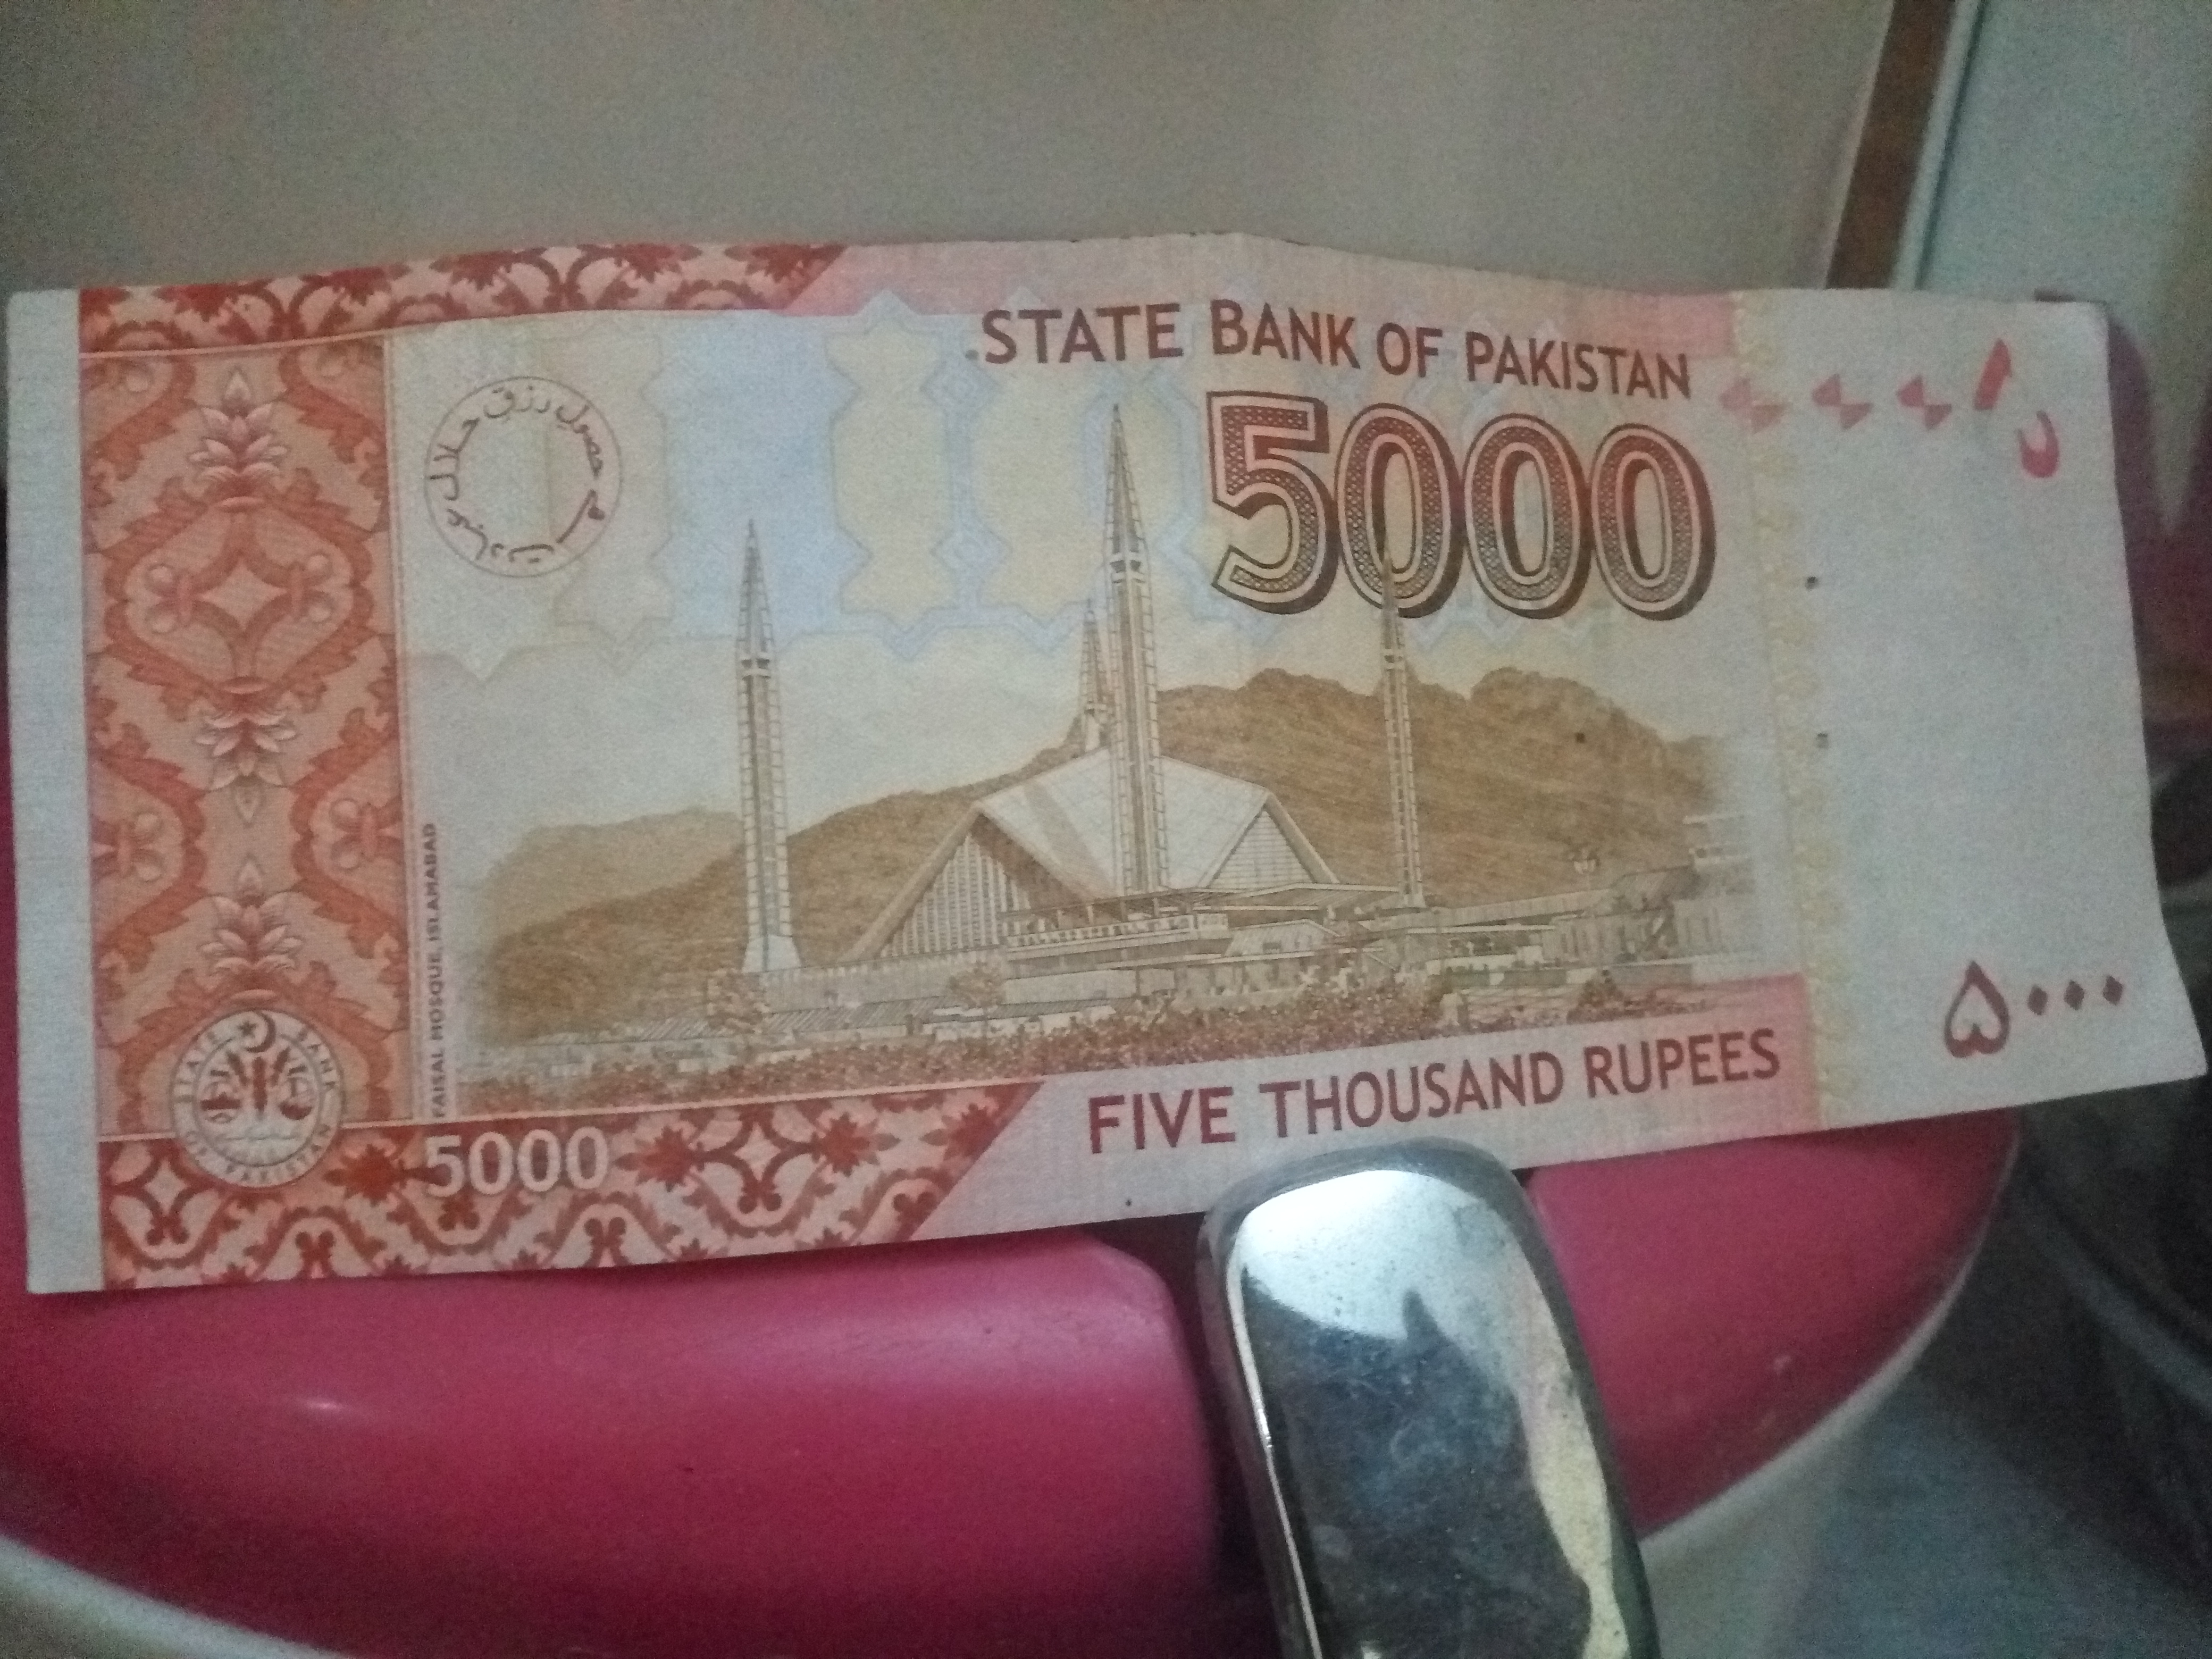5000 rupee: (30, 220, 2203, 1215)
